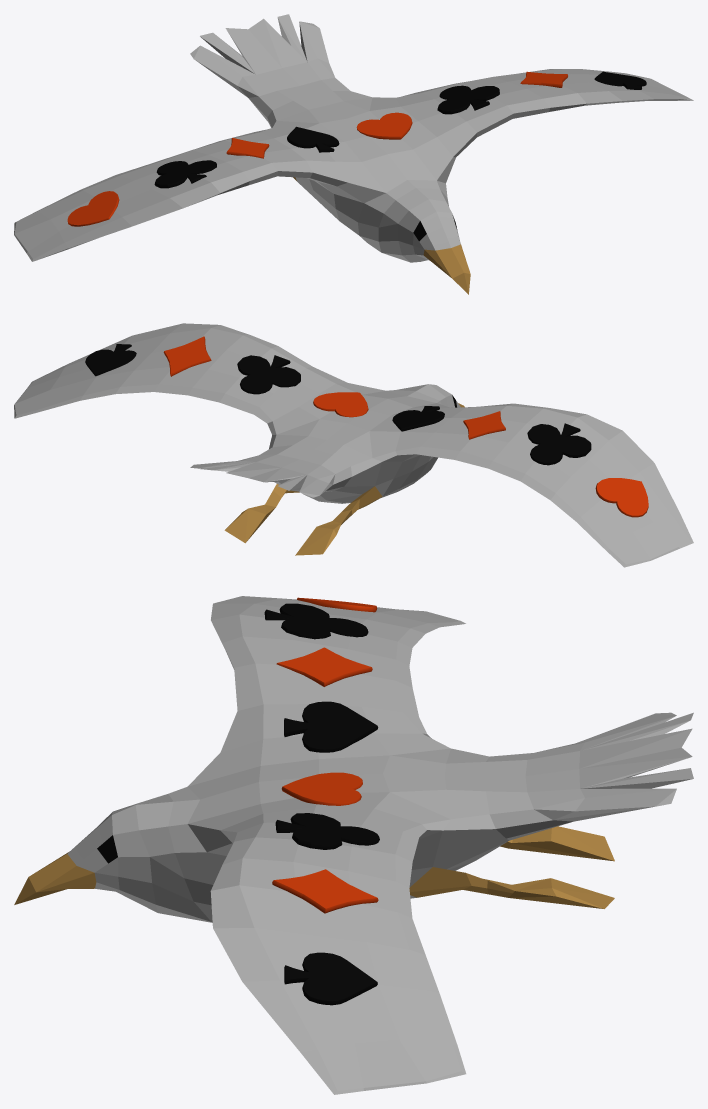
The model's file is bird.fbx.
3 views of the same model, one above another, from view 1: azimuth 30°, elevation 25°; view 2: azimuth 150°, elevation 25°; view 3: azimuth 270°, elevation 25° (orthographic). The views are drawn at different scales.
Parts seen in each view (by area): view 1: body, club1, club, beak, heart, heart1, spade, spade1, diamond, diamond1; view 2: body, feet, club, club1, heart, heart1, diamond1, spade1, spade, diamond; view 3: body, feet, spade1, spade, club1, diamond1, club, heart1, beak, diamond.
Boxes of the visible parts, x1,y1,x2,y2 form: body: (14, 14, 693, 262); club1: (437, 85, 499, 114); club: (154, 160, 216, 188); beak: (423, 244, 470, 294); heart: (67, 191, 119, 226); heart1: (356, 112, 412, 139); spade: (287, 126, 339, 152); spade1: (594, 71, 646, 89); diamond: (226, 137, 269, 158); diamond1: (520, 71, 567, 87); body: (14, 323, 693, 567); feet: (224, 484, 382, 555); club: (527, 423, 591, 465); club1: (237, 355, 300, 394); heart: (595, 478, 648, 517); heart1: (313, 392, 368, 417); diamond1: (163, 336, 211, 376); spade1: (85, 344, 136, 376); spade: (392, 406, 444, 431); diamond: (463, 411, 505, 439); body: (67, 596, 693, 1094); feet: (409, 826, 614, 908); spade1: (284, 952, 377, 1005); spade: (284, 701, 378, 752); club1: (275, 813, 379, 849); diamond1: (272, 869, 378, 913); club: (264, 603, 368, 639); heart1: (281, 772, 362, 805); beak: (14, 852, 96, 904); diamond: (276, 647, 372, 686).
Size of the model in its own units: 33.75 by 19.84 by 5.58.
